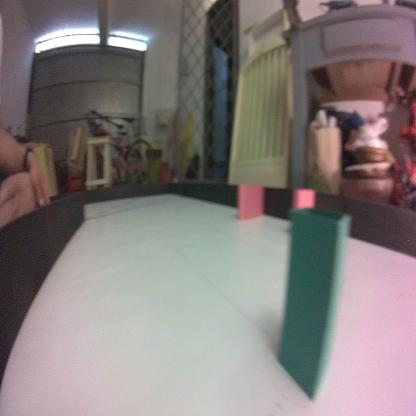green: (278, 206, 352, 400)
magenta: (238, 180, 264, 221)
